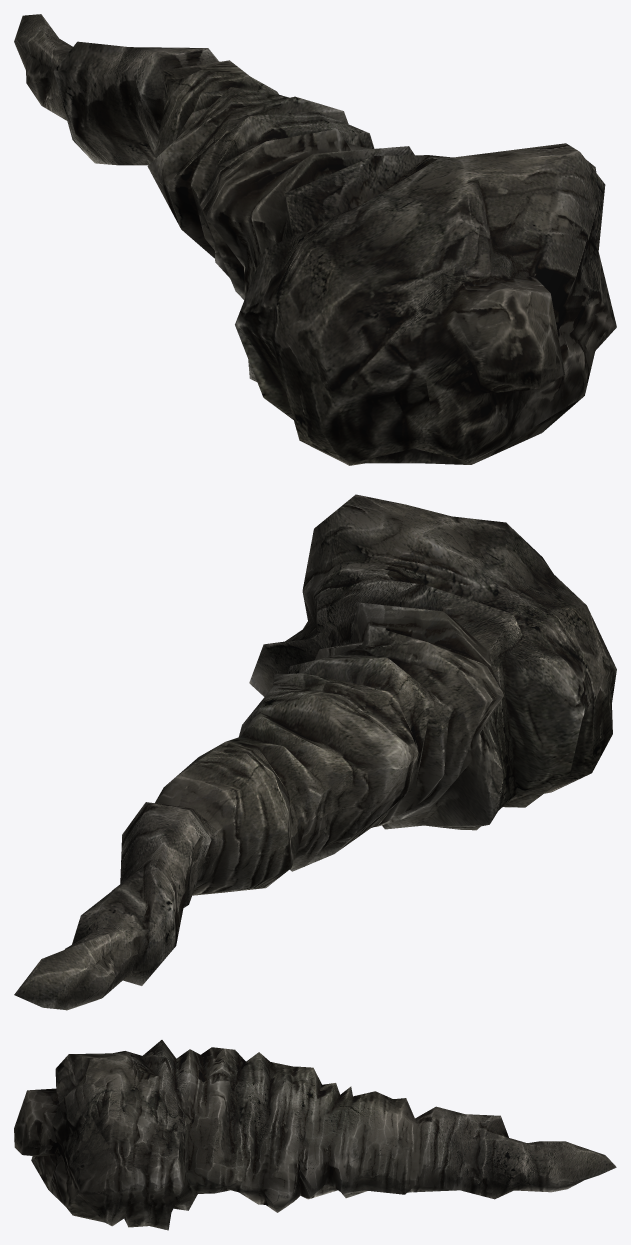
Rendered from AEP_Rock_03.fbx.
The picture shows the model from 3 angles, top to bottom: view 1: azimuth 30°, elevation 25°; view 2: azimuth 150°, elevation 25°; view 3: azimuth 270°, elevation 25°; orthographic projection. The views are drawn at different scales.
Parts seen in each view (by area): view 1: AEP_Rock_03; view 2: AEP_Rock_03; view 3: AEP_Rock_03.
Part boxes in pixels (box(x1,y1,x2,y2)): AEP_Rock_03: box(14, 14, 616, 465); AEP_Rock_03: box(14, 494, 616, 1010); AEP_Rock_03: box(14, 1040, 616, 1230).
Bounding box in the file's own units: 5.85 × 4.72 × 15.8.
